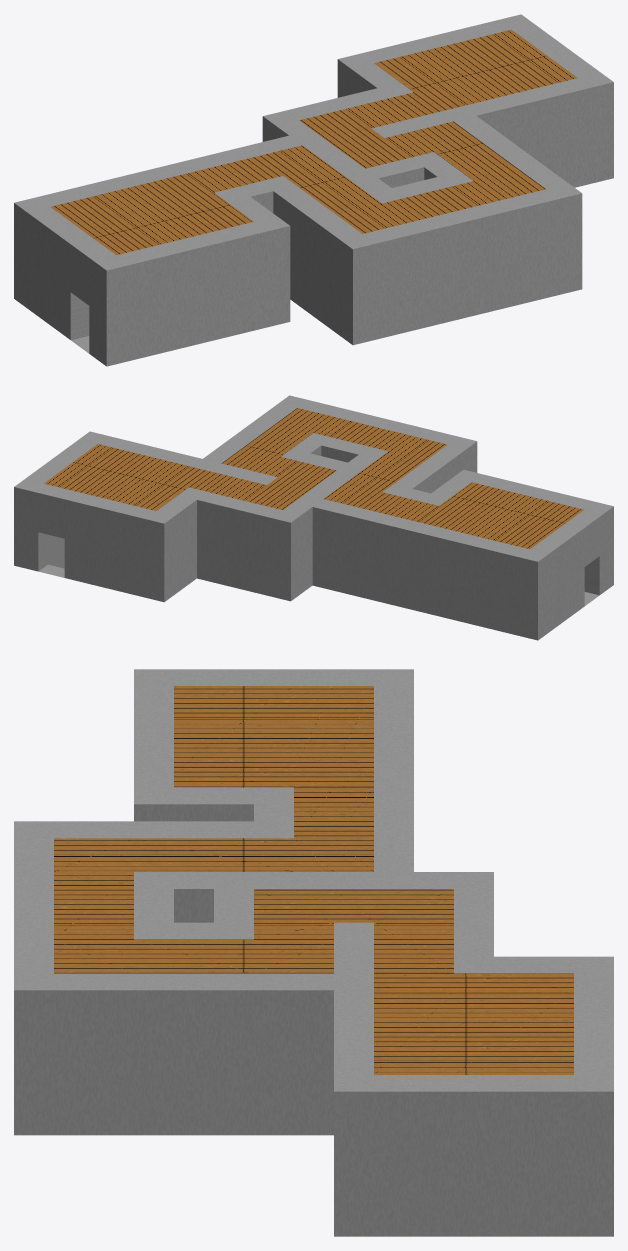
The model's file is nivel 1_def.fbx.
The picture shows the model from 3 angles, top to bottom: view 1: azimuth 30°, elevation 25°; view 2: azimuth 150°, elevation 25°; view 3: azimuth 270°, elevation 25°; orthographic projection. The views are drawn at different scales.
Visible parts, largest first — view 1: Cube.001, Plane.001; view 2: Cube.001, Plane.001, Cube.002; view 3: Cube.001, Plane.001.
Part boxes in pixels (x1=…): Cube.001: x1=14, y1=14, x2=613, y2=366; Plane.001: x1=50, y1=29, x2=577, y2=255; Cube.001: x1=14, y1=395, x2=613, y2=640; Plane.001: x1=44, y1=408, x2=583, y2=549; Cube.002: x1=48, y1=534, x2=64, y2=568; Cube.001: x1=14, y1=669, x2=613, y2=1236; Plane.001: x1=54, y1=686, x2=573, y2=1074.
Size of the model in its own units: 2500 by 406 by 1500.
